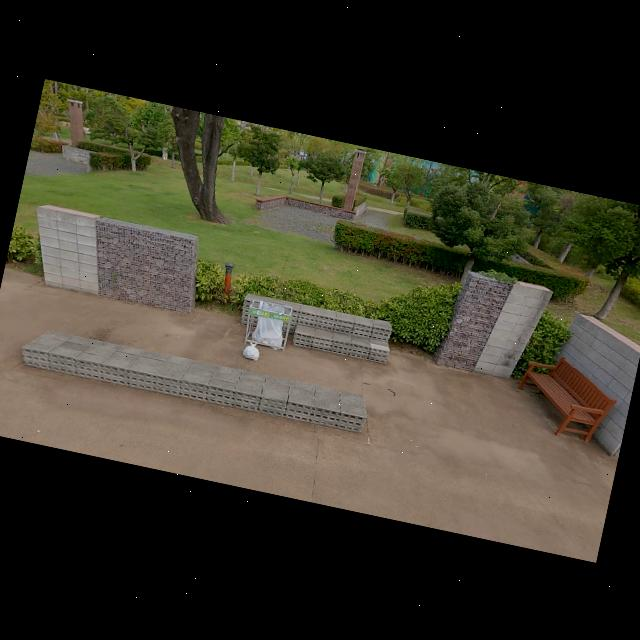trash: (240, 338, 262, 361)
